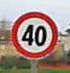limite 40: (10, 11, 58, 59)
